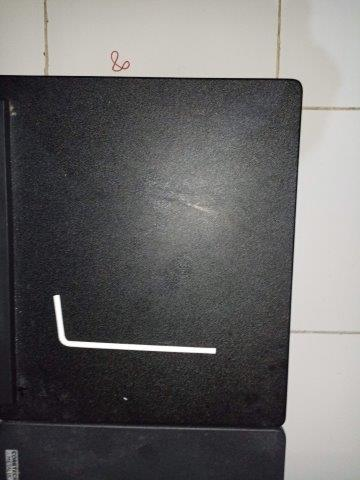karet: (110, 49, 130, 72)
sedotan: (52, 294, 215, 354)
